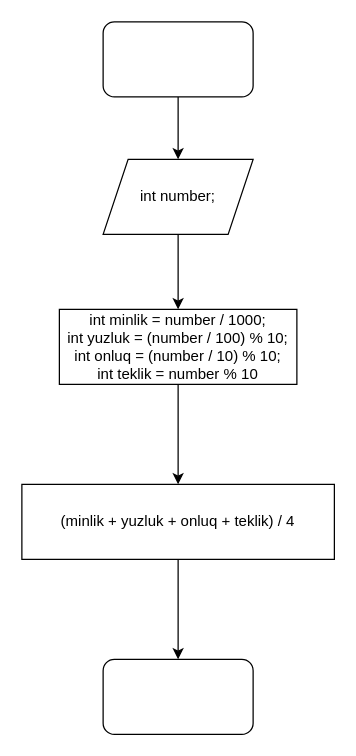
This 356x756 diagram has some shape labels left out. The shapes that lost their labels are listed below. From the top down, each one's centre as x and y in pixels, then its label:
At (177,59): "Start".
At (177,696): "End".
